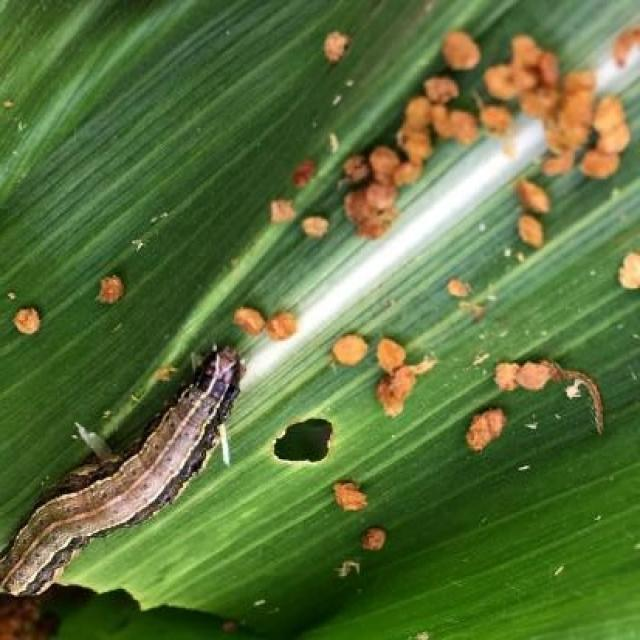army worm: (6, 338, 254, 611)
